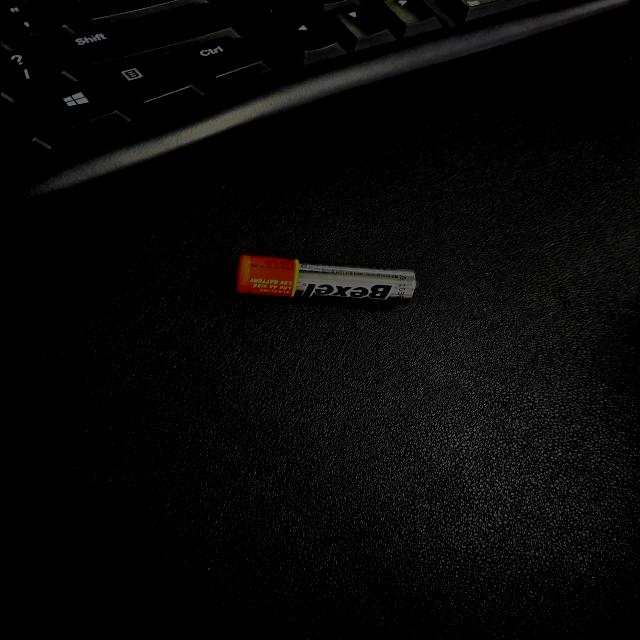AA: (234, 177, 300, 310)
